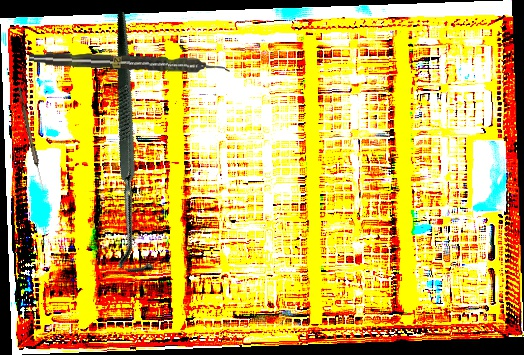Handpiece: (28, 49, 231, 77)
Hook Surgical: (17, 9, 250, 282)
Surgical Spoon: (15, 86, 47, 193)
